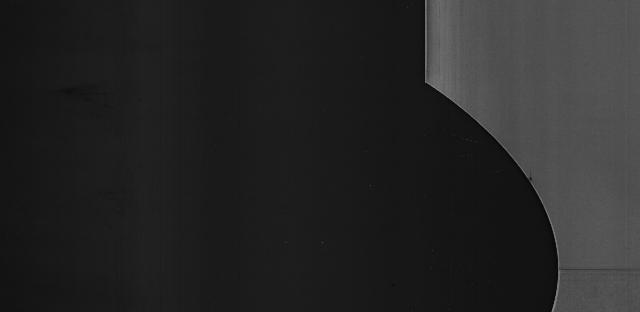welding_line: (548, 261, 640, 284)
